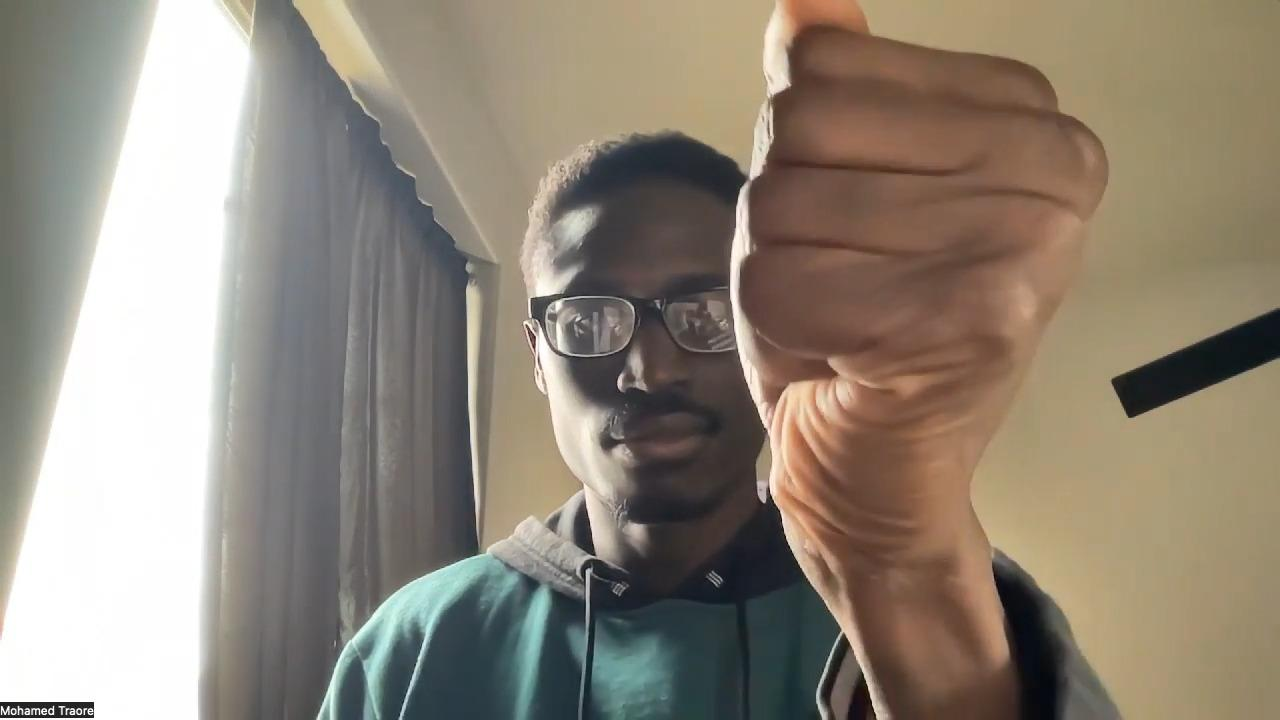Rock: (729, 0, 1110, 579)
